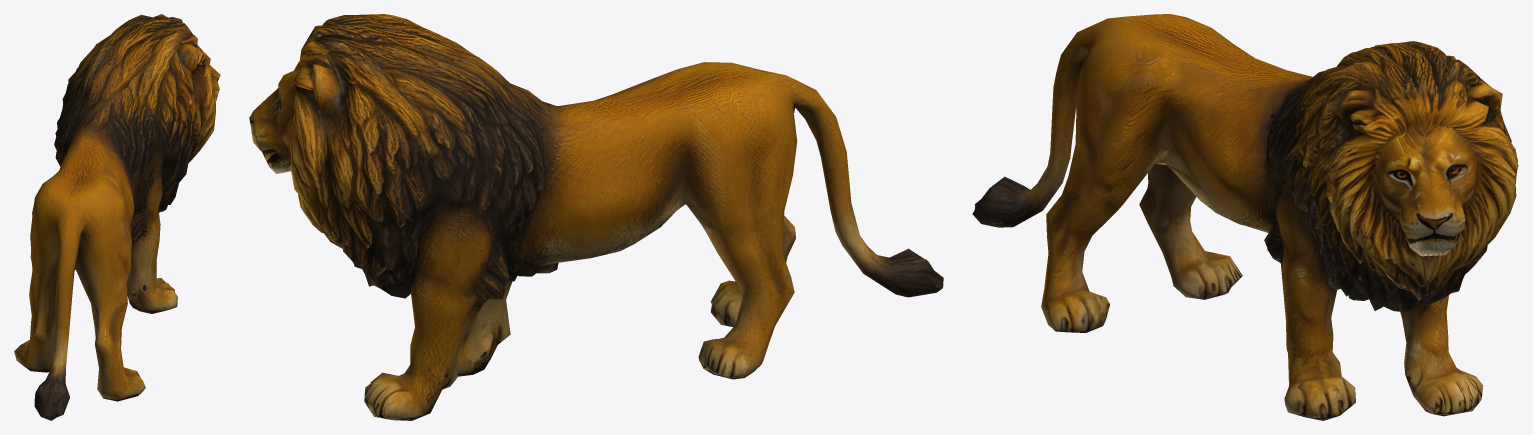
File: lion.glb
3 renders of one model, left to right at view 1: azimuth 30°, elevation 25°; view 2: azimuth 150°, elevation 25°; view 3: azimuth 270°, elevation 25°, orthographic. The views are drawn at different scales.
Visible parts, largest first — view 1: tripo_node_c80f2322-ae72-4c58-bd4e-f4217b703701; view 2: tripo_node_c80f2322-ae72-4c58-bd4e-f4217b703701; view 3: tripo_node_c80f2322-ae72-4c58-bd4e-f4217b703701.
Part boxes in pixels (x1=…): tripo_node_c80f2322-ae72-4c58-bd4e-f4217b703701: x1=14, y1=14, x2=220, y2=420; tripo_node_c80f2322-ae72-4c58-bd4e-f4217b703701: x1=249, y1=14, x2=943, y2=420; tripo_node_c80f2322-ae72-4c58-bd4e-f4217b703701: x1=972, y1=14, x2=1518, y2=420.
Size of the model in its own units: 0.9984 by 0.7407 by 0.9735.
1 material, 1 textured.
